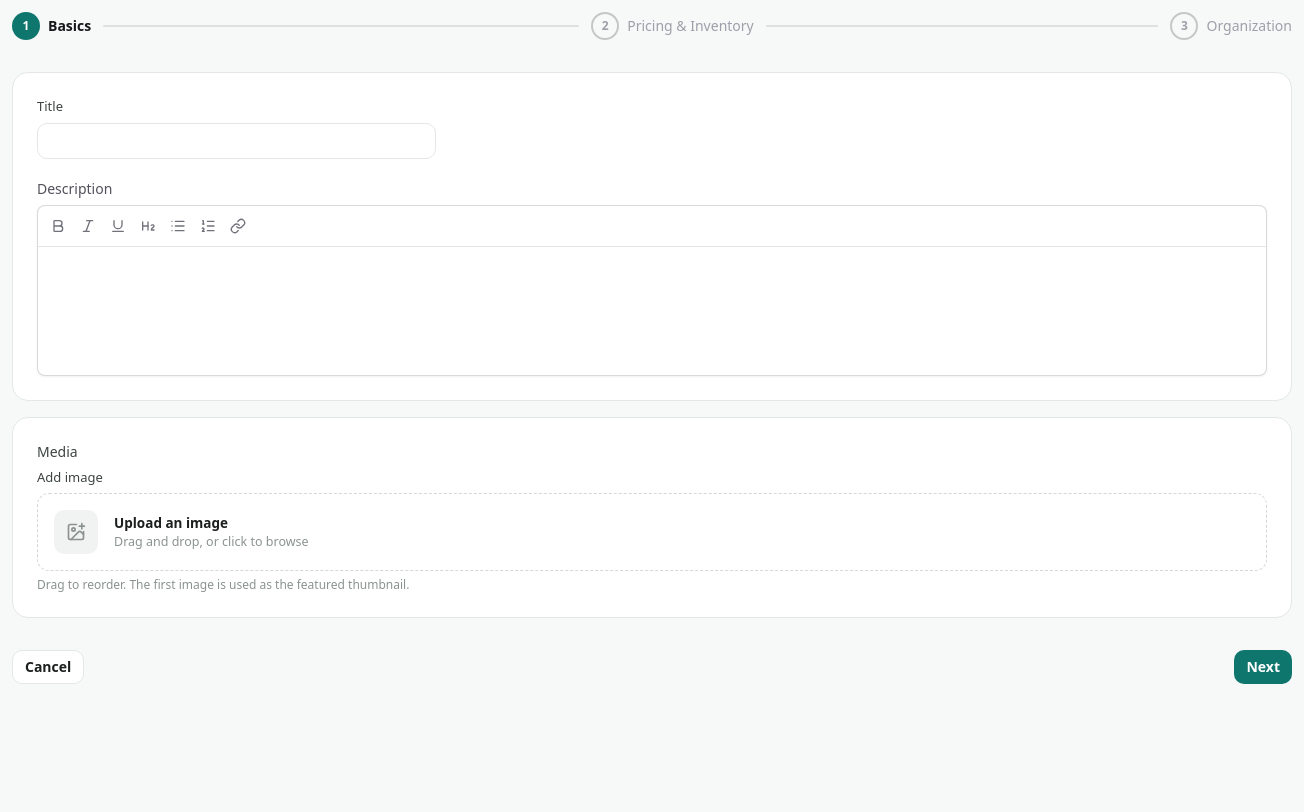
Test: ProductForm wizard › advances to Step 2 once Title is filled, and Back returns to Step 1
The width and height of the screenshot is (1304, 812).
In the field labelled "Title": (237, 140) top-left (37, 122), bottom-right (436, 158), type "New Product"
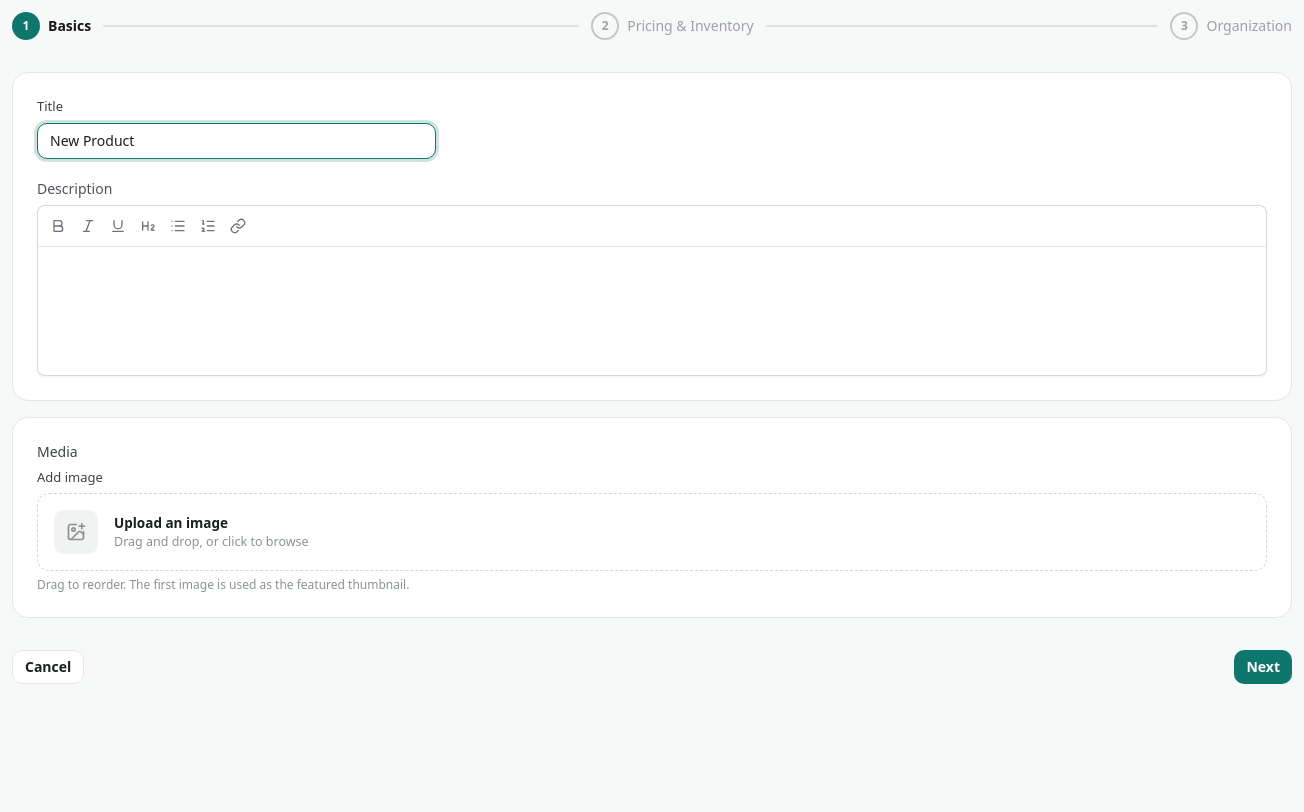
Click the button "Next": (1263, 667) top-left (1234, 650), bottom-right (1292, 684)
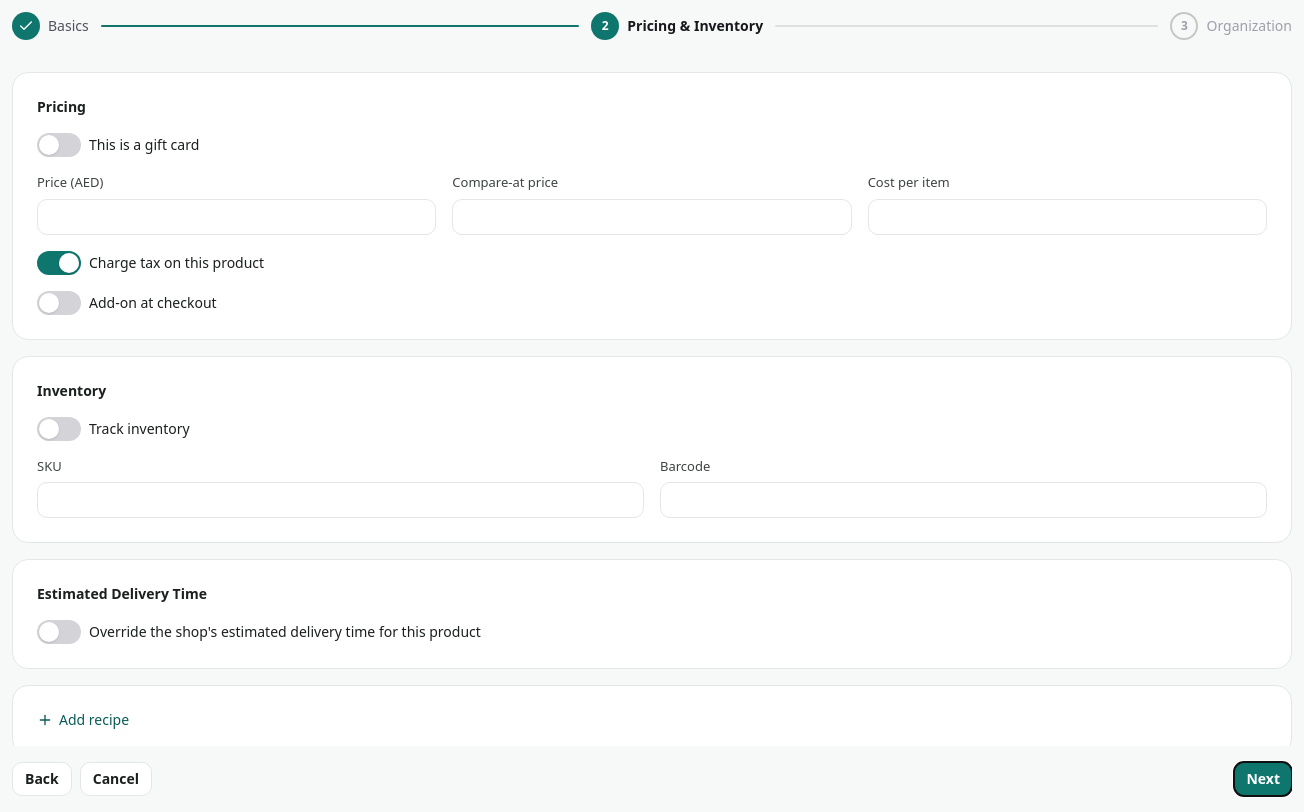
expect the text "Price (AED)" is shown: met, box top-left (37, 173), bottom-right (103, 192)
Click the button "Back": (42, 779) top-left (12, 762), bottom-right (72, 796)
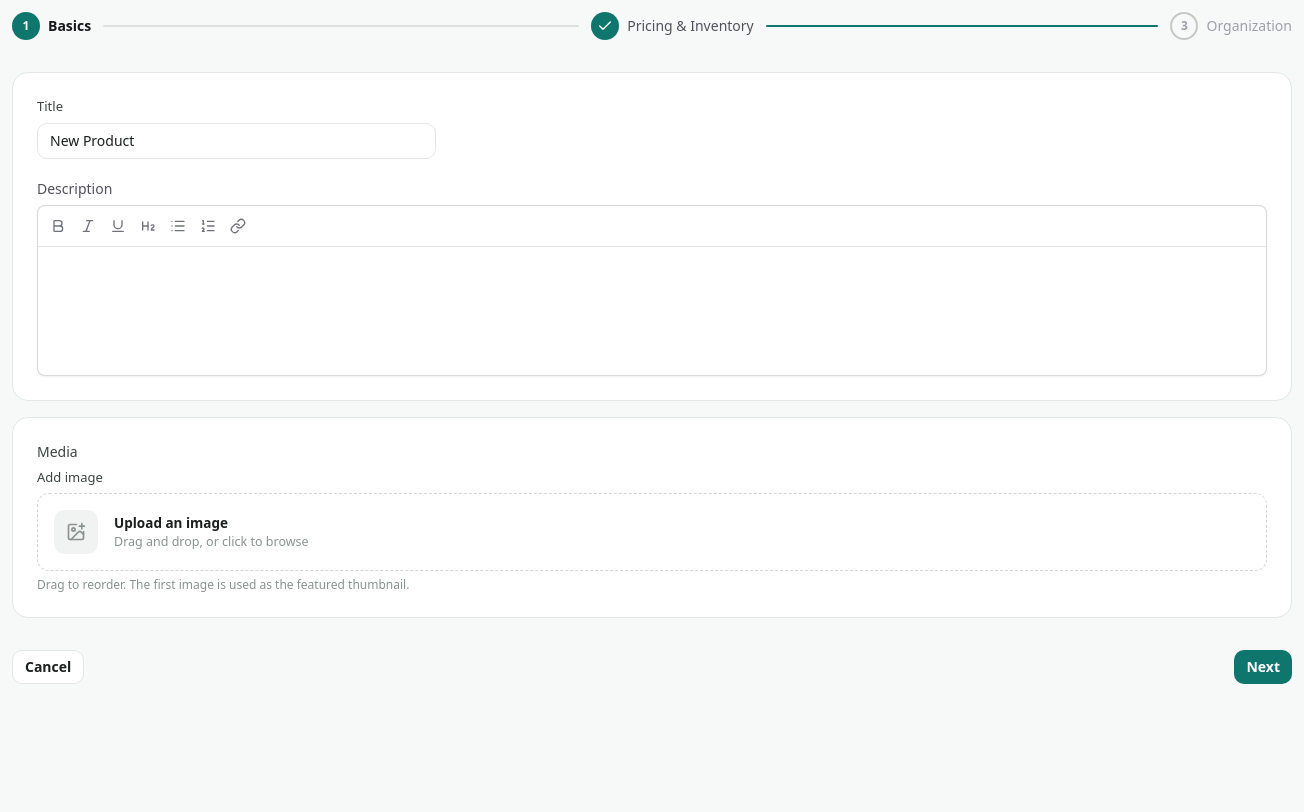
expect the field labelled "Title" is shown: met, box top-left (37, 122), bottom-right (436, 158)
